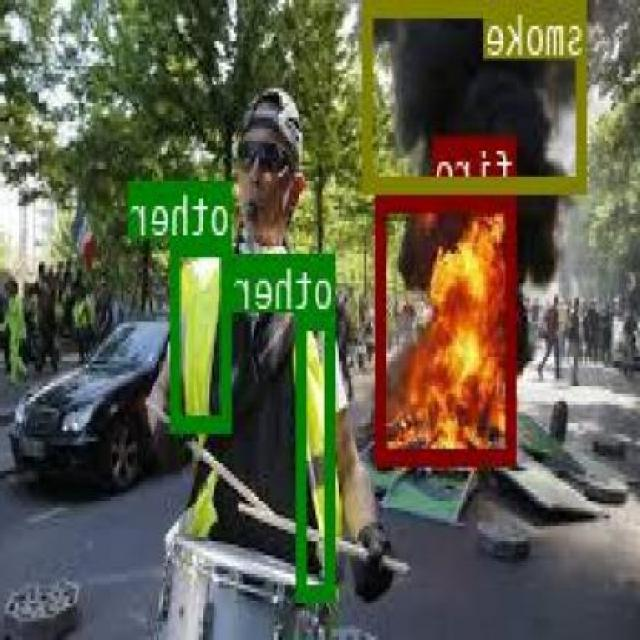Fire: (378, 194, 518, 462)
Smoke: (364, 0, 590, 191)
